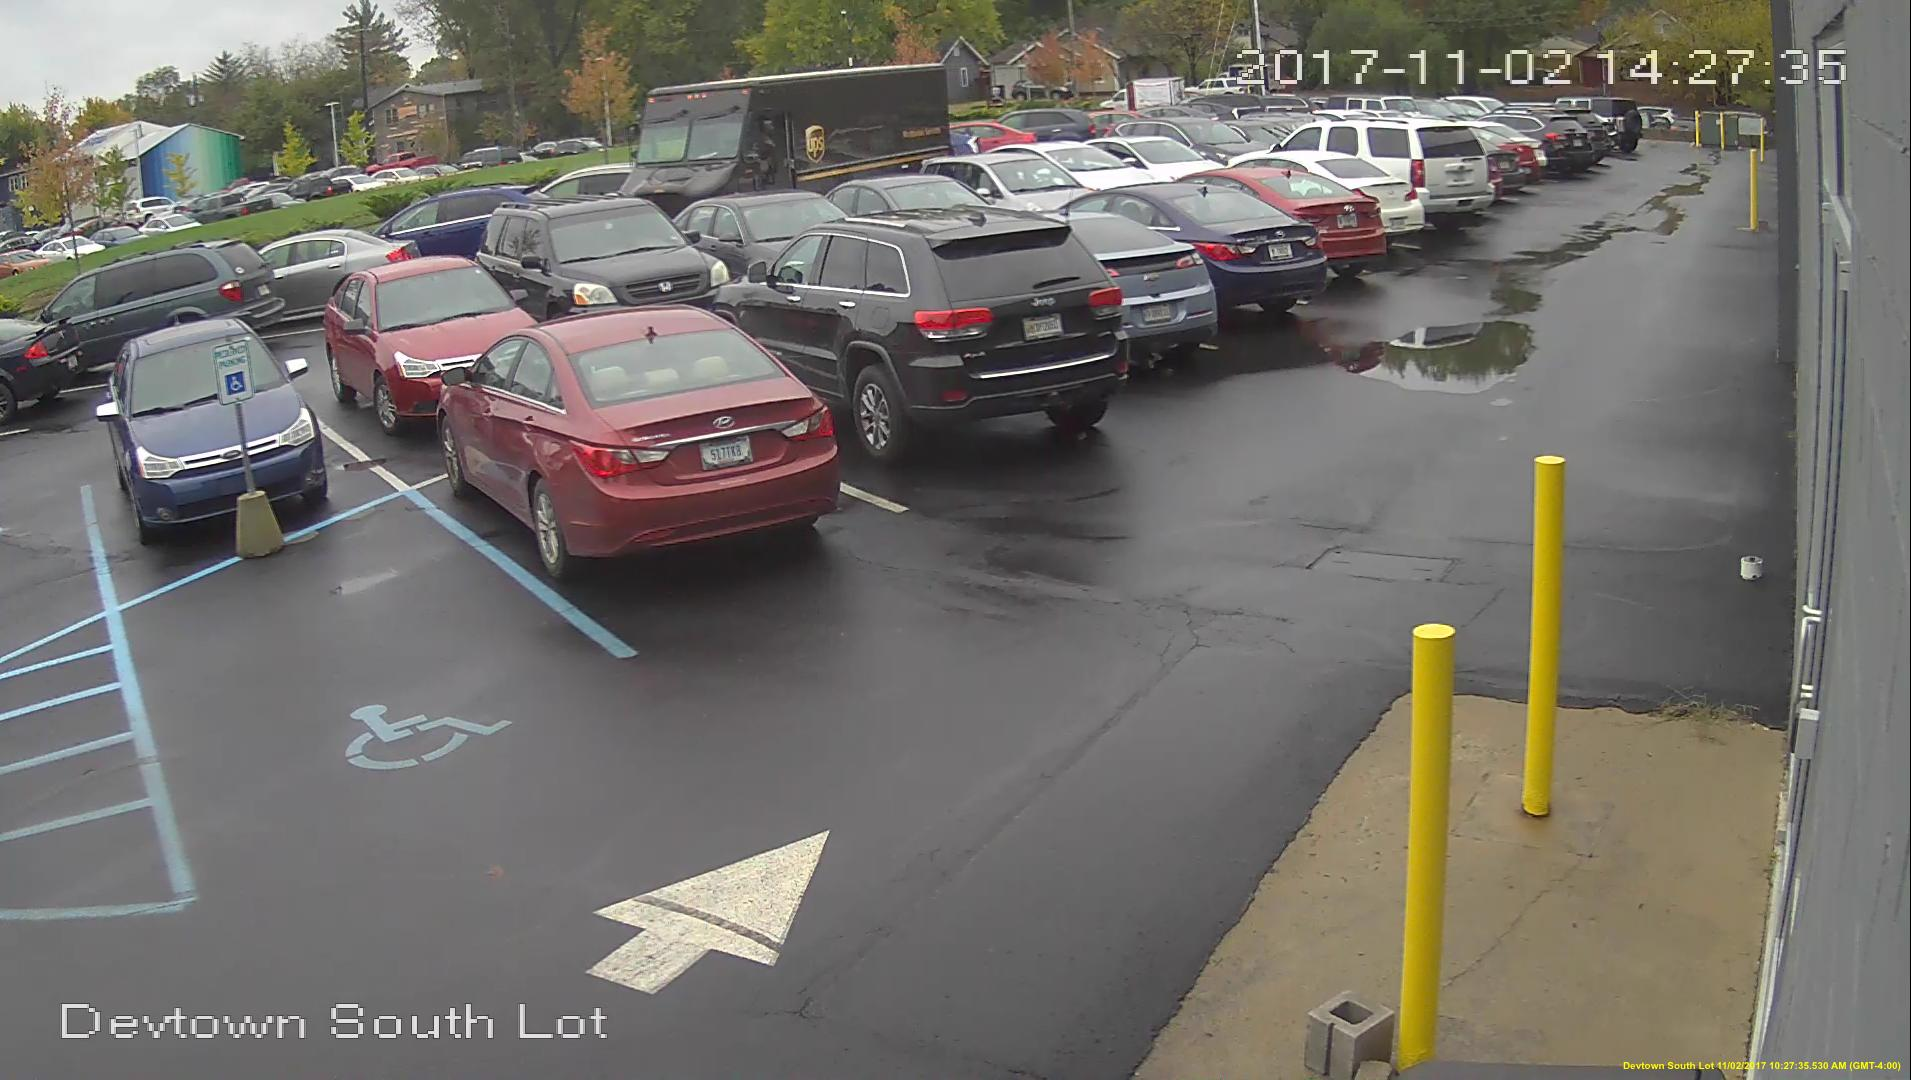ups_truck: (619, 60, 950, 194)
